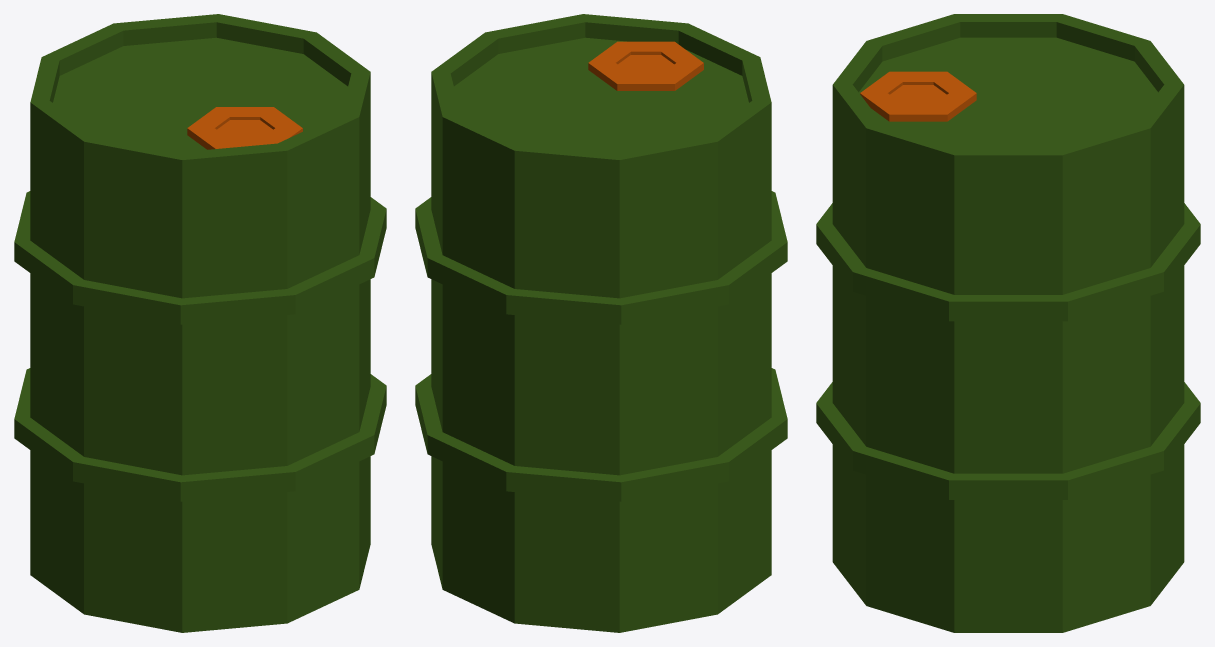
The model's file is OilDrum_01.fbx.
3 renders of one model, left to right at view 1: azimuth 30°, elevation 25°; view 2: azimuth 150°, elevation 25°; view 3: azimuth 270°, elevation 25°, orthographic.
Parts seen in each view (by area): view 1: OilDrum_01; view 2: OilDrum_01; view 3: OilDrum_01.
Part boxes in pixels (x1=…): OilDrum_01: x1=14, y1=14, x2=386, y2=632; OilDrum_01: x1=415, y1=14, x2=787, y2=632; OilDrum_01: x1=816, y1=14, x2=1200, y2=632.
Bounding box in the file's own units: 326 × 470 × 343.
